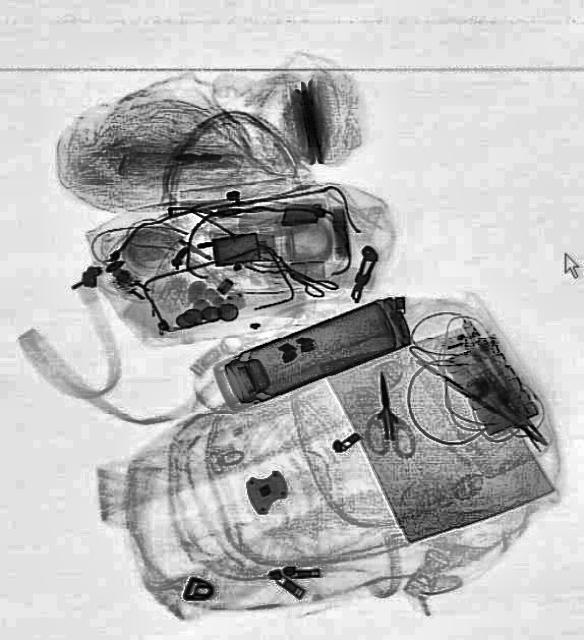Knife: (370, 369, 398, 441)
